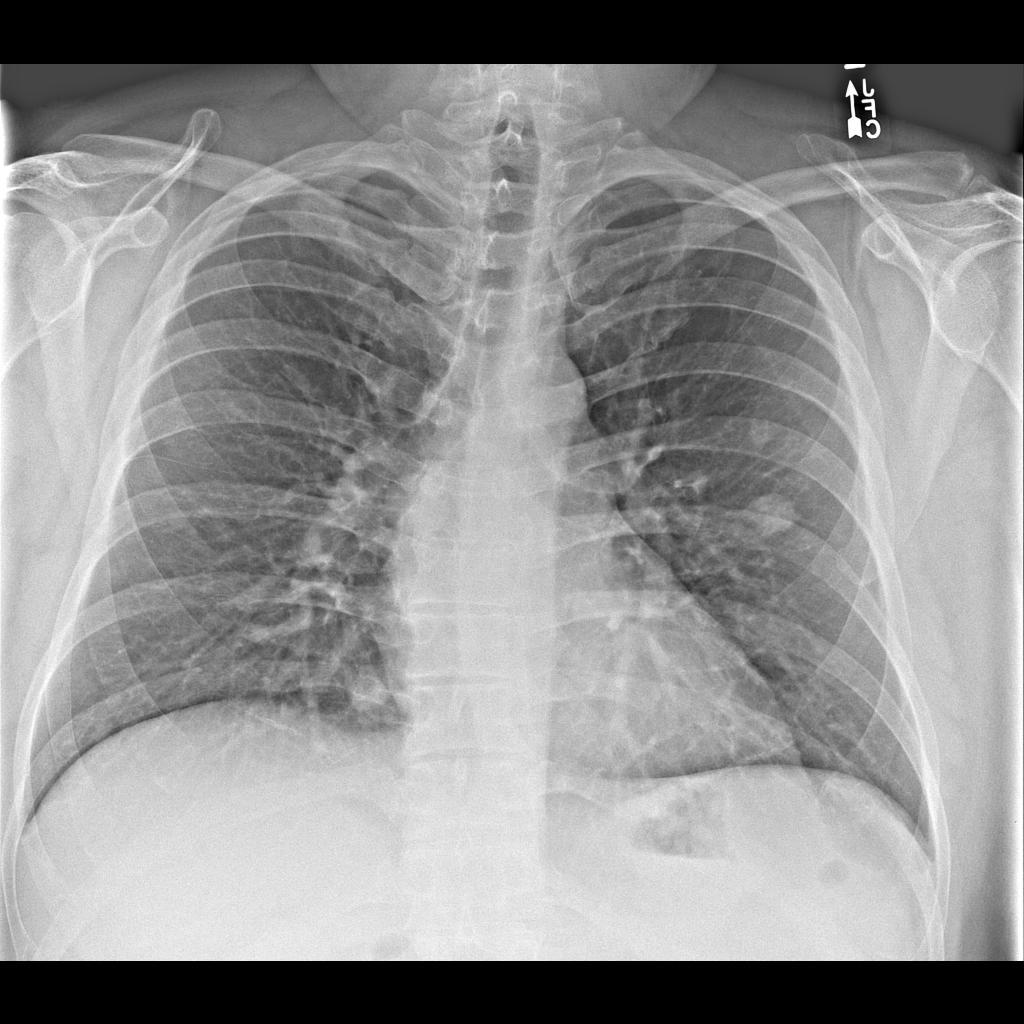Nodule: (329, 658, 398, 717), (743, 489, 802, 537), (747, 415, 779, 448)
